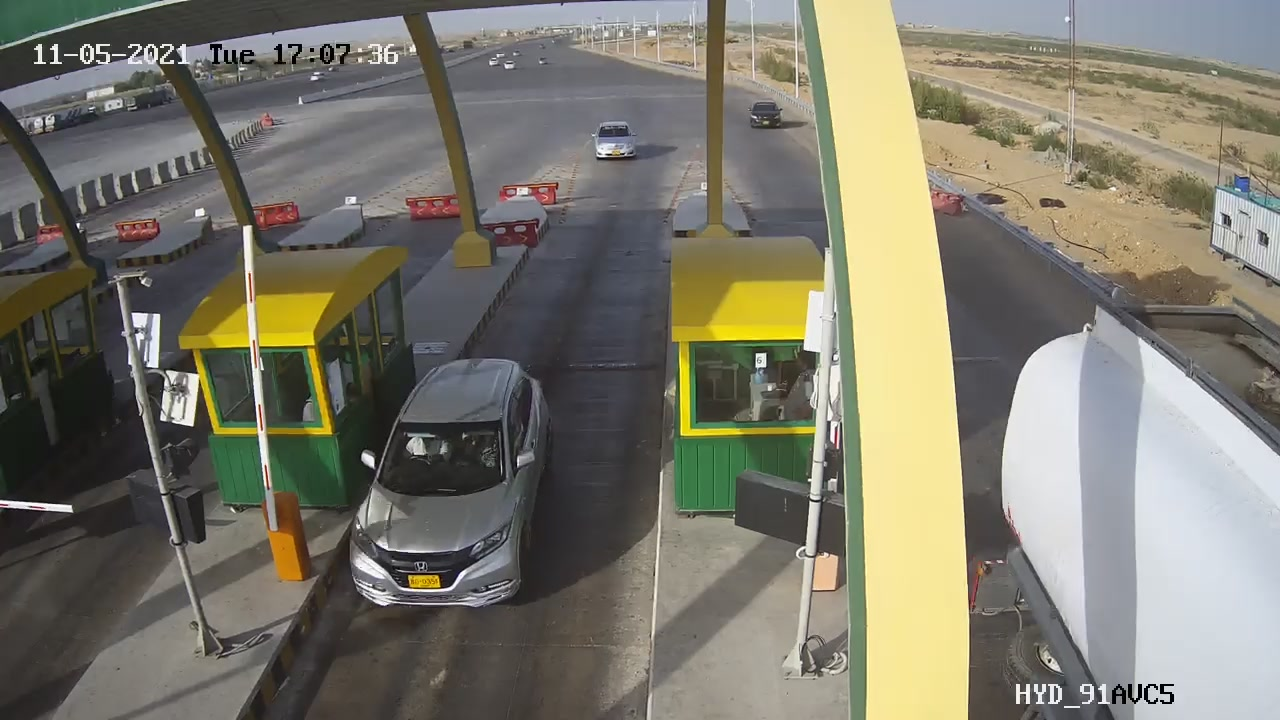F1: (329, 334, 561, 631)
